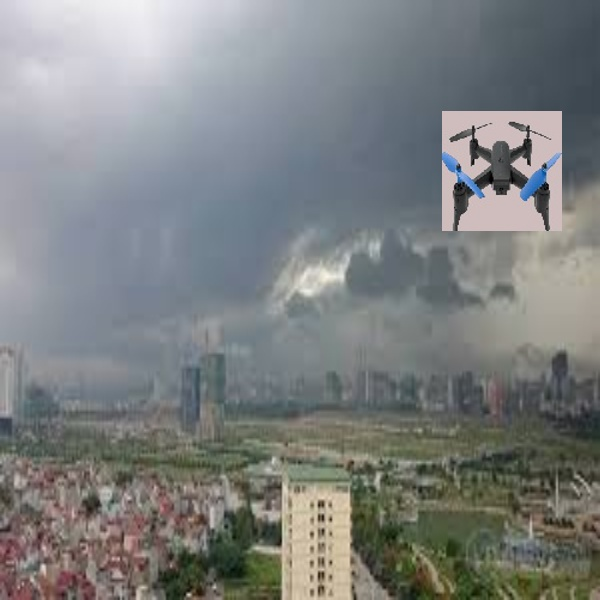drone: (438, 107, 565, 231)
